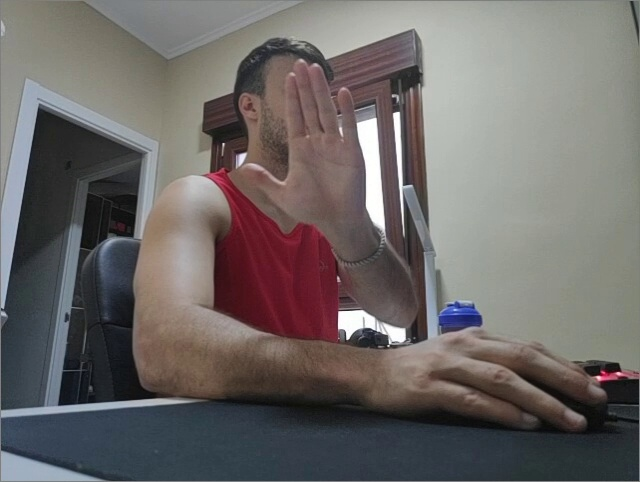Palm: (240, 56, 362, 240)
